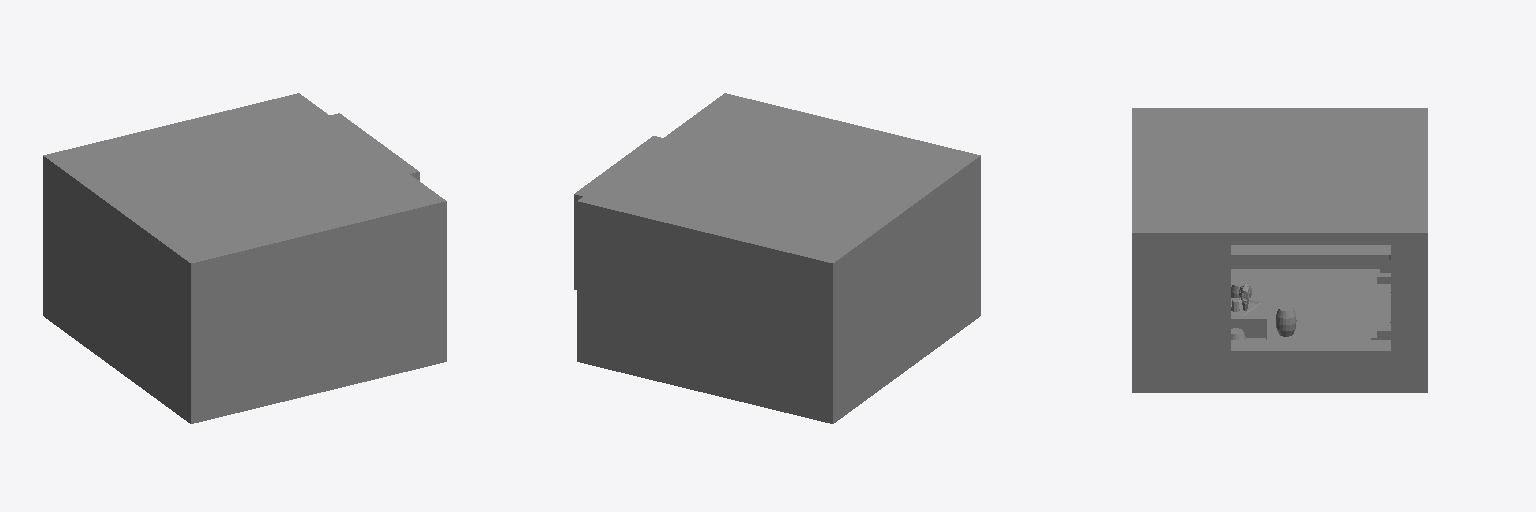
Rendered from room.obj.
3 views of the same model, side by side, from view 1: azimuth 30°, elevation 25°; view 2: azimuth 150°, elevation 25°; view 3: azimuth 270°, elevation 25° (orthographic).
Parts seen in each view (by area): view 1: room; view 2: room; view 3: room.
Boxes of the visible parts, x1,y1,x2,y2 form: room: [43, 93, 446, 423]; room: [574, 93, 980, 423]; room: [1132, 108, 1427, 392].
Size of the model in its own units: 543 by 300 by 500.